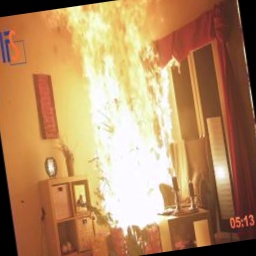fire: (40, 0, 201, 238)
